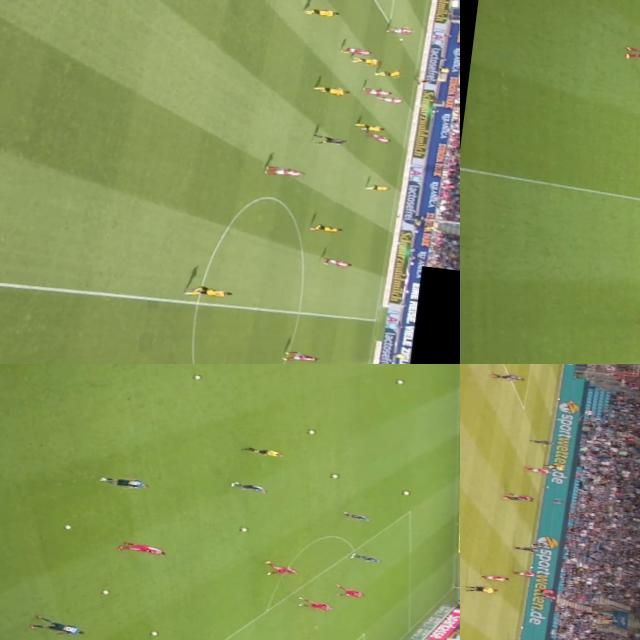ball: (96, 586, 110, 596), (301, 426, 317, 434), (59, 522, 75, 530), (235, 525, 250, 533), (192, 372, 203, 380), (394, 34, 406, 41), (146, 630, 160, 636), (401, 488, 410, 496), (394, 378, 405, 384), (330, 472, 340, 478)
player: (32, 615, 84, 634), (179, 282, 234, 298), (97, 474, 150, 490), (302, 4, 346, 20), (118, 540, 168, 554), (314, 255, 354, 270), (353, 118, 390, 134), (280, 349, 319, 364), (296, 598, 336, 612), (305, 220, 344, 234), (263, 164, 308, 176), (314, 82, 351, 96), (266, 562, 298, 578), (378, 22, 414, 36), (333, 584, 365, 599), (348, 54, 384, 67), (364, 130, 396, 144), (337, 44, 374, 56), (228, 481, 268, 492), (348, 550, 382, 562), (489, 371, 526, 382), (623, 43, 640, 63), (374, 66, 406, 76), (340, 511, 371, 521), (363, 182, 392, 192), (523, 464, 552, 474), (364, 86, 390, 97), (378, 95, 408, 104), (528, 437, 558, 446), (505, 491, 535, 500), (509, 568, 537, 577), (478, 573, 508, 581), (500, 494, 532, 501), (511, 544, 539, 552), (529, 540, 548, 550)
